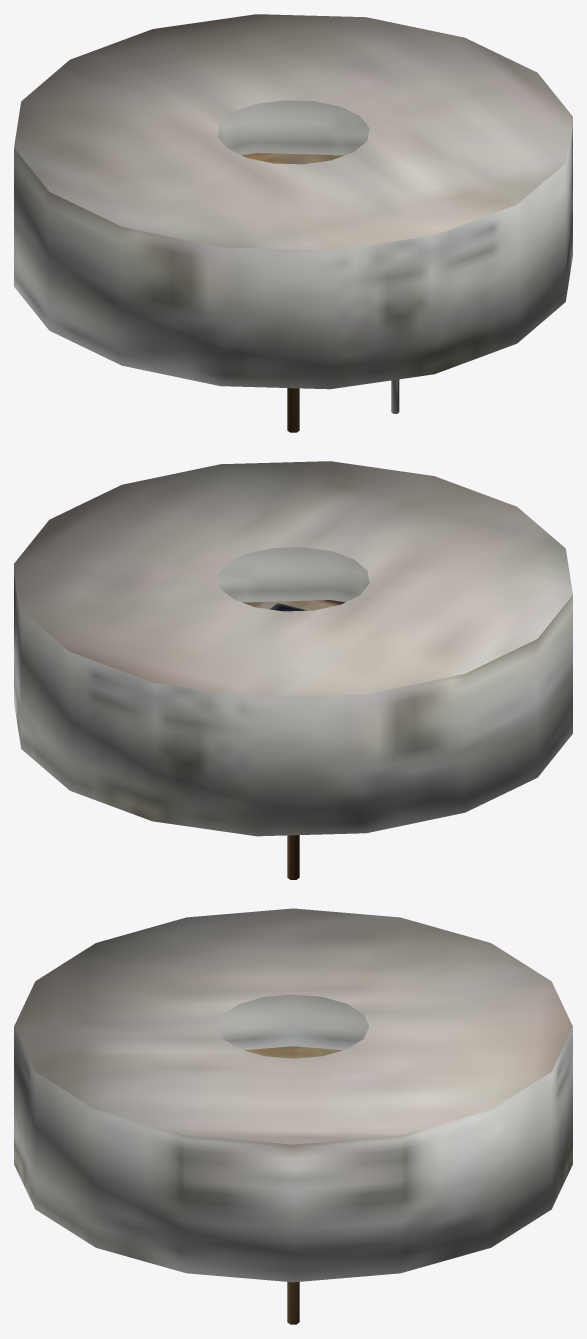
3 renders of one model, top to bottom at view 1: azimuth 30°, elevation 25°; view 2: azimuth 150°, elevation 25°; view 3: azimuth 270°, elevation 25°, orthographic.
Parts seen in each view (by area): view 1: 29 DEXTRE; view 2: 29 DEXTRE; view 3: 29 DEXTRE.
Part boxes in pixels (x1,y1,x2,y2): 29 DEXTRE: [14, 14, 572, 432]; 29 DEXTRE: [14, 461, 572, 879]; 29 DEXTRE: [14, 908, 572, 1324].
Bounding box in the file's own units: 0.8099 × 0.8099 × 0.4728.
Materials: 2 (2 with a texture image).
